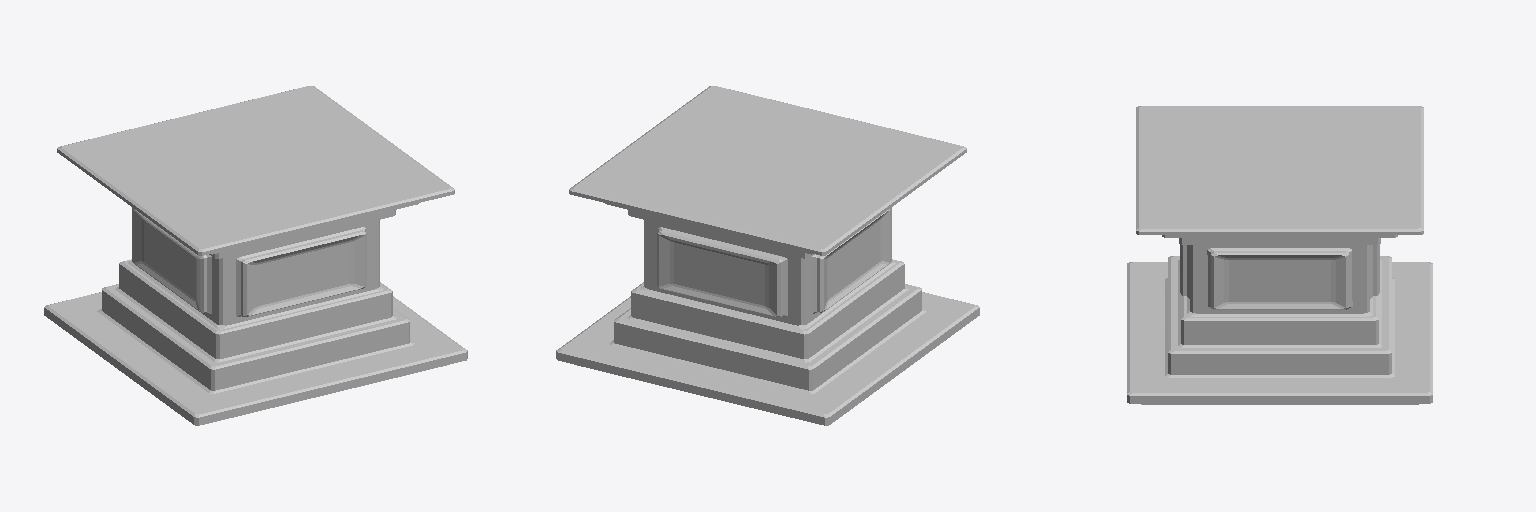
Rendered from Pedastal 1.obj.
The picture shows the model from 3 angles: view 1: azimuth 30°, elevation 25°; view 2: azimuth 150°, elevation 25°; view 3: azimuth 270°, elevation 25°; orthographic projection.
Visible parts, largest first — view 1: Pedestal; view 2: Pedestal; view 3: Pedestal.
Part boxes in pixels (left/top/right/bottom): Pedestal: left=44, top=86, right=467, bottom=425; Pedestal: left=556, top=86, right=979, bottom=425; Pedestal: left=1127, top=106, right=1432, bottom=404.
Bounding box in the file's own units: 0.6858 × 0.4245 × 0.6659.